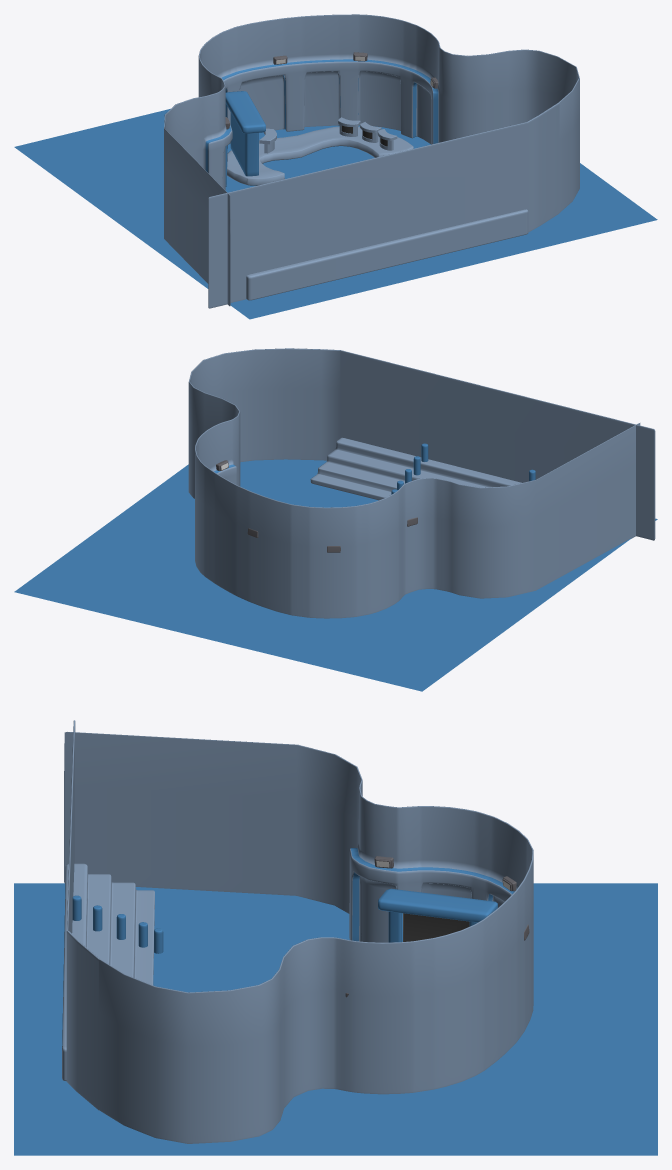
Rendered from Emvironment3.fbx.
3 renders of one model, top to bottom at view 1: azimuth 30°, elevation 25°; view 2: azimuth 150°, elevation 25°; view 3: azimuth 270°, elevation 25°, orthographic. The views are drawn at different scales.
Visible parts, largest first — view 1: polySurface27, wall1, polySurface28, polySurface25, polySurface29, polySurface37; view 2: polySurface27, polySurface28, wall1, polySurface25; view 3: polySurface27, polySurface28, polySurface25, wall1, polySurface37, screen.
Boxes of the visible parts, box(x1,y1,x2,y2) form: polySurface27: box(164, 14, 579, 306); wall1: box(208, 103, 559, 308); polySurface28: box(14, 108, 657, 319); polySurface25: box(246, 209, 528, 300); polySurface29: box(227, 126, 413, 185); polySurface37: box(225, 91, 265, 176); polySurface27: box(188, 348, 640, 618); polySurface28: box(14, 459, 657, 691); wall1: box(286, 348, 655, 540); polySurface25: box(310, 437, 521, 500); polySurface27: box(64, 732, 533, 1143); polySurface28: box(14, 883, 657, 1155); polySurface25: box(62, 863, 154, 1081); wall1: box(66, 720, 99, 1110); polySurface37: box(378, 888, 497, 942); screen: box(403, 913, 469, 941).
Bounding box in the file's own units: 162 × 41.8 × 155.
Materials: 4 (1 with a texture image).
